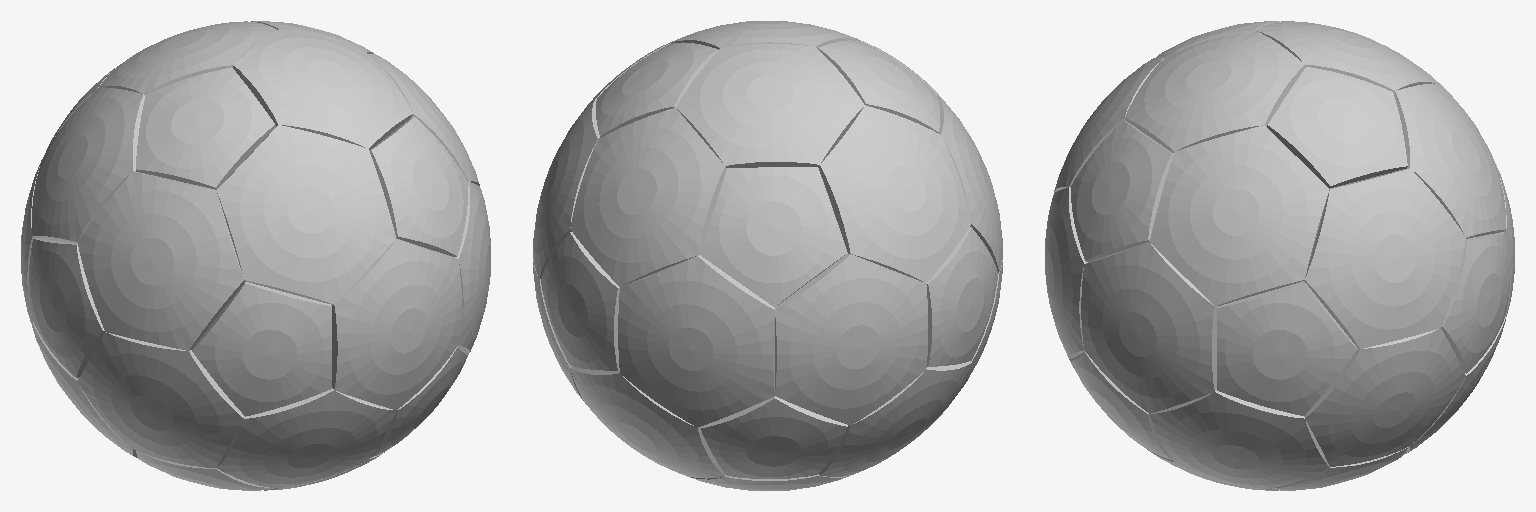
The model's file is soccerball_with_easy_rig_v2.obj.
3 renders of one model, left to right at view 1: azimuth 30°, elevation 25°; view 2: azimuth 150°, elevation 25°; view 3: azimuth 270°, elevation 25°, orthographic.
Parts seen in each view (by area): view 1: SoccerBall_Mesh.011; view 2: SoccerBall_Mesh.011; view 3: SoccerBall_Mesh.011.
Part boxes in pixels (left/top/right/bottom): SoccerBall_Mesh.011: left=21, top=21, right=490, bottom=490; SoccerBall_Mesh.011: left=533, top=21, right=1002, bottom=490; SoccerBall_Mesh.011: left=1045, top=21, right=1514, bottom=490.
Bounding box in the file's own units: 1.5 × 1.5 × 1.51.